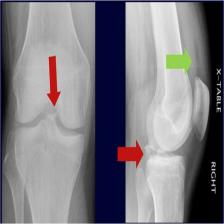avulsion-fracture: (0, 0, 214, 224)
